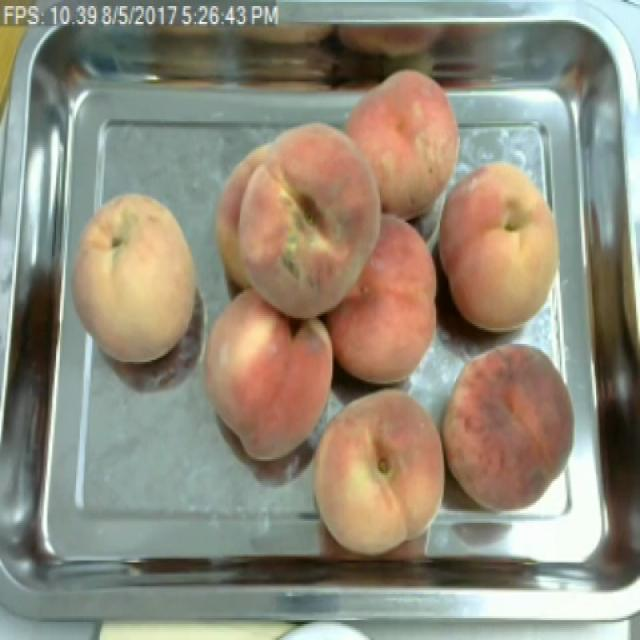Fruit: (205, 111, 392, 328), (56, 183, 208, 374), (300, 380, 457, 560), (193, 286, 347, 469), (434, 336, 586, 519), (432, 149, 572, 340), (328, 205, 447, 392), (332, 72, 471, 222)
